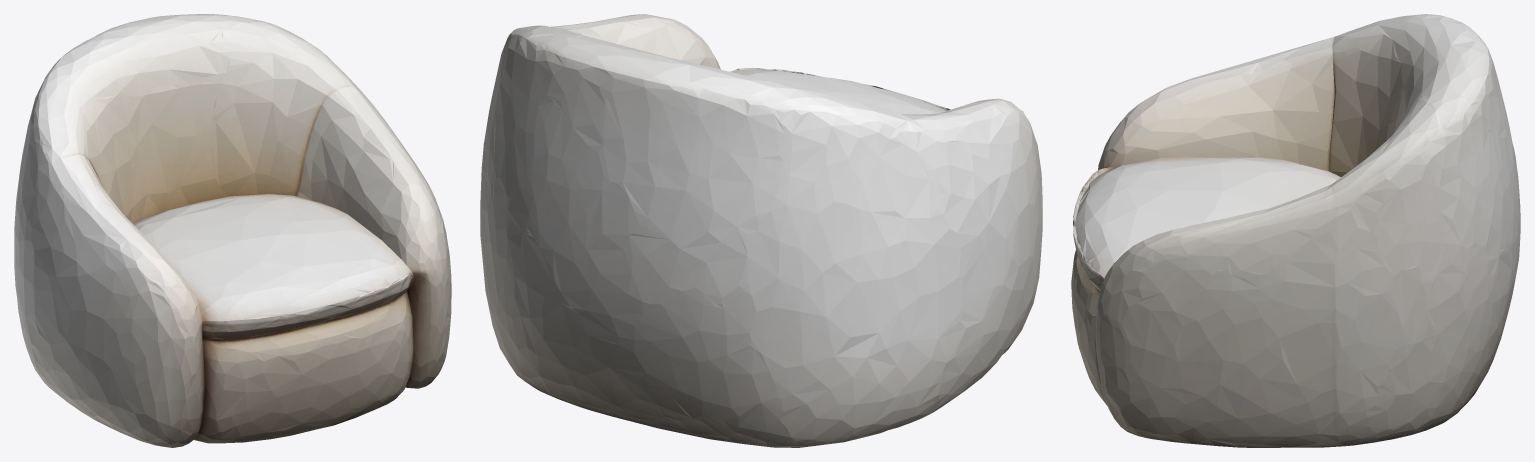
Rendered from armchair.glb.
3 views of the same model, side by side, from view 1: azimuth 30°, elevation 25°; view 2: azimuth 150°, elevation 25°; view 3: azimuth 270°, elevation 25° (orthographic). The views are drawn at different scales.
Visible parts, largest first — view 1: world; view 2: world; view 3: world.
Part boxes in pixels (bbox=[...]): world: bbox=[14, 14, 451, 447]; world: bbox=[480, 14, 1042, 447]; world: bbox=[1071, 14, 1520, 447].
Bounding box in the file's own units: 0.9986 × 0.7656 × 0.9951.
1 material, 1 textured.
